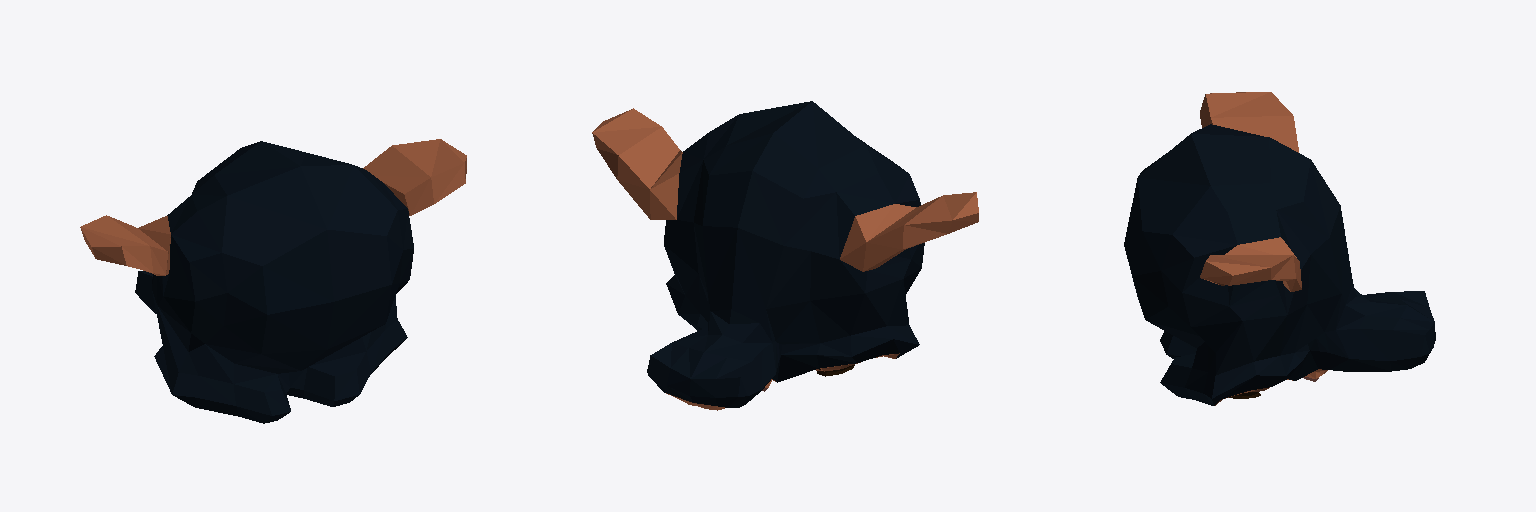
Rendered from monkeyMat.obj.
3 renders of one model, left to right at view 1: azimuth 30°, elevation 25°; view 2: azimuth 150°, elevation 25°; view 3: azimuth 270°, elevation 25°, orthographic.
Visible parts, largest first — view 1: Suzanne; view 2: Suzanne; view 3: Suzanne.
Part boxes in pixels (left/top/right/bottom): Suzanne: left=80, top=139, right=466, bottom=423; Suzanne: left=592, top=101, right=978, bottom=410; Suzanne: left=1124, top=92, right=1435, bottom=405.
Size of the model in its own units: 2.73 by 1.7 by 1.97.